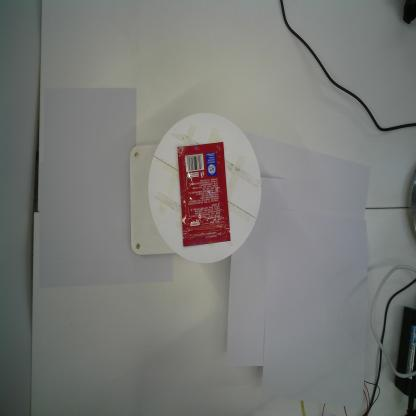Seasoner: (177, 141, 231, 247)
